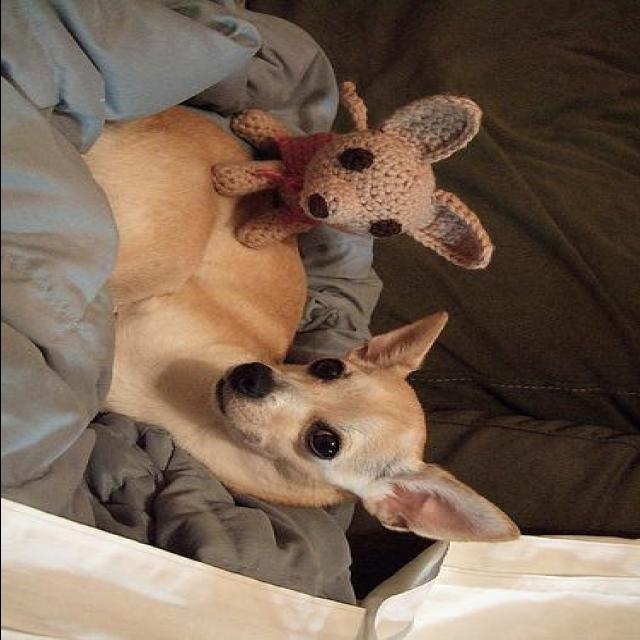chihuahua: (83, 100, 526, 543)
